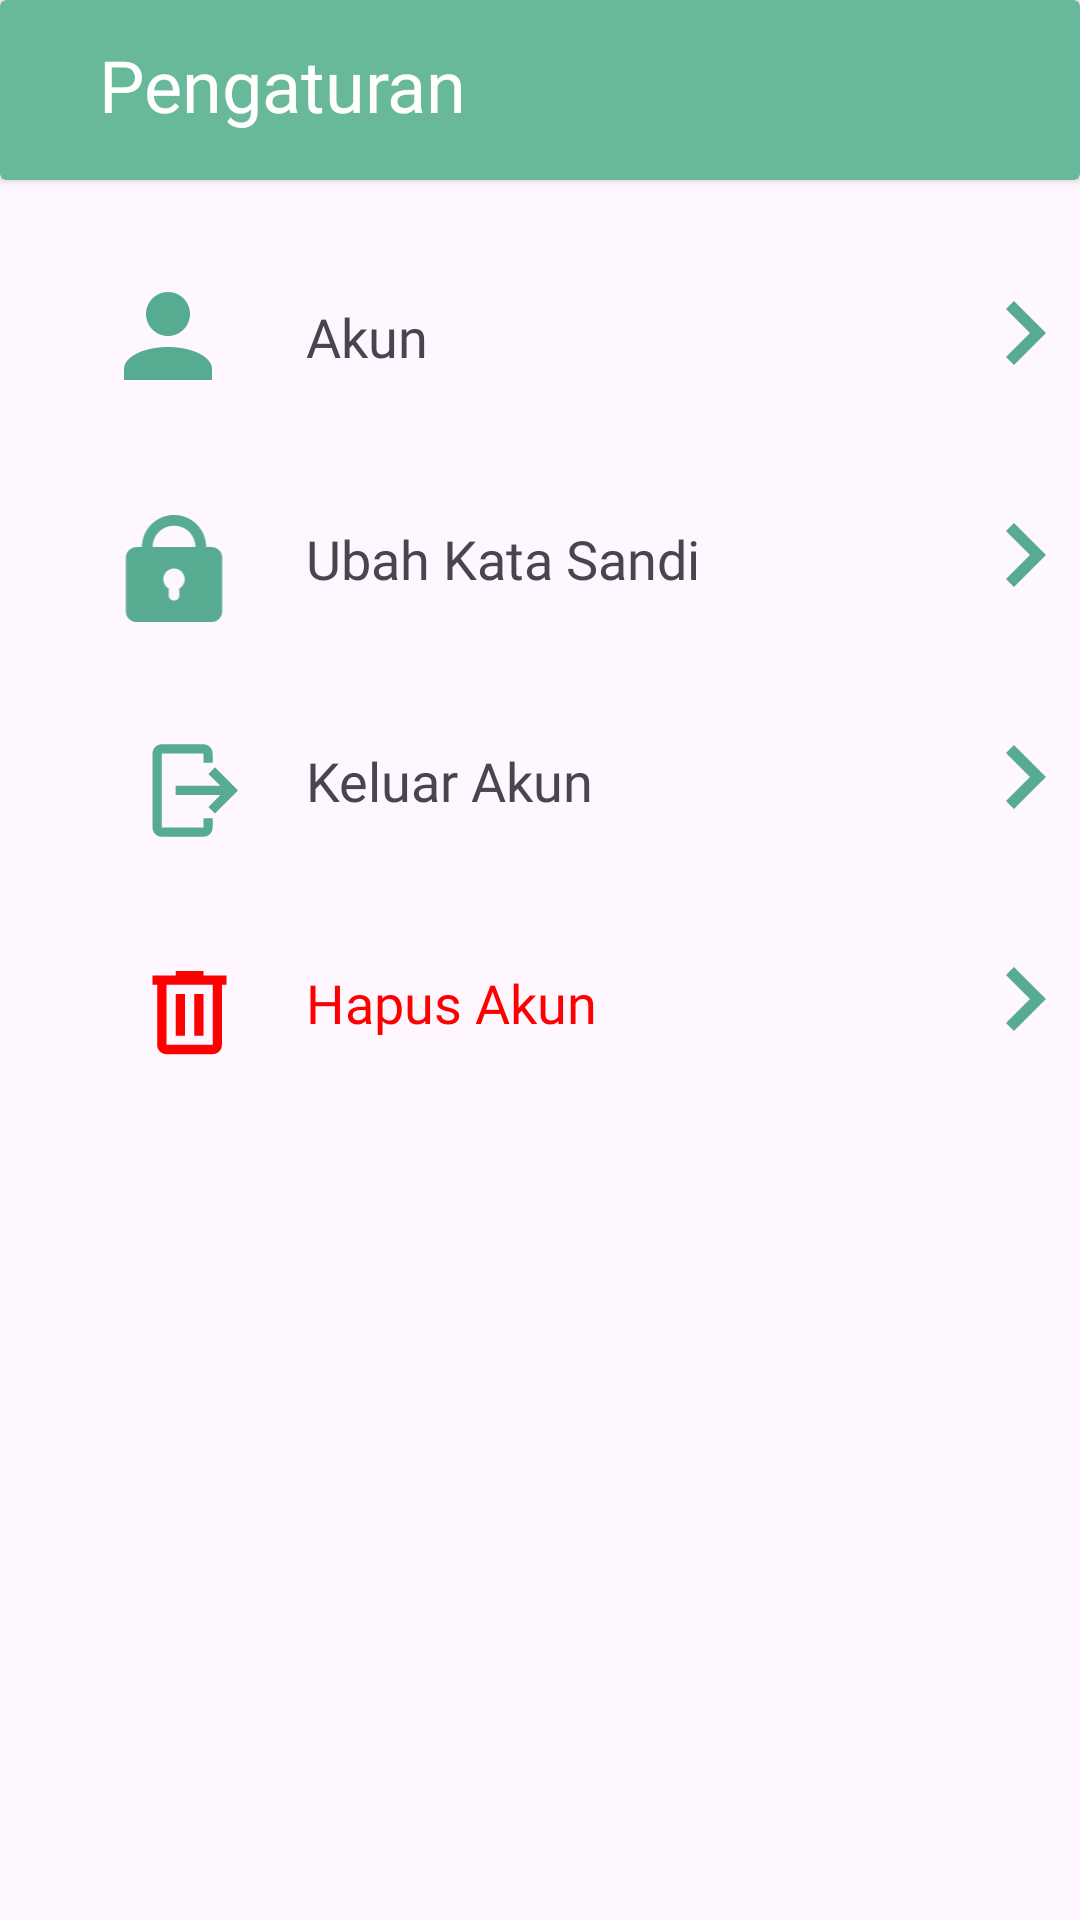

Icons on this 1080px x 1920px Android screen, each with its box as bbox=(x1, y1, x2, y2):
exit setting: bbox=(152, 744, 238, 837)
lock setting: bbox=(125, 515, 223, 622)
people setting: bbox=(124, 292, 212, 380)
